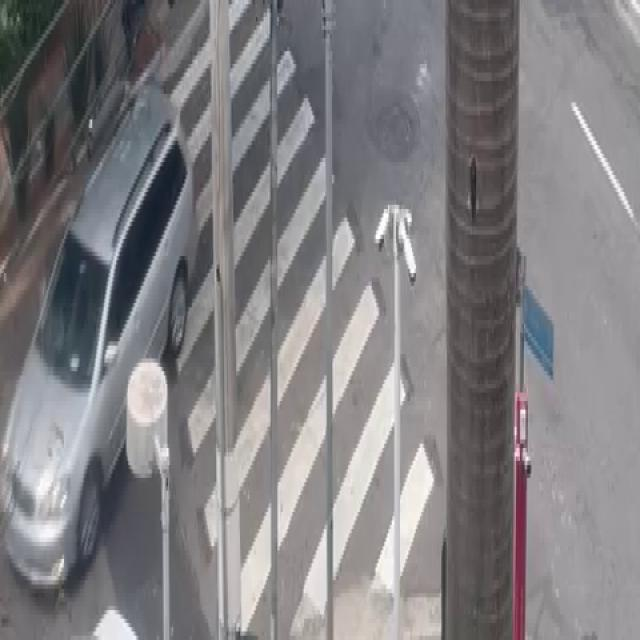car: (1, 95, 222, 594)
